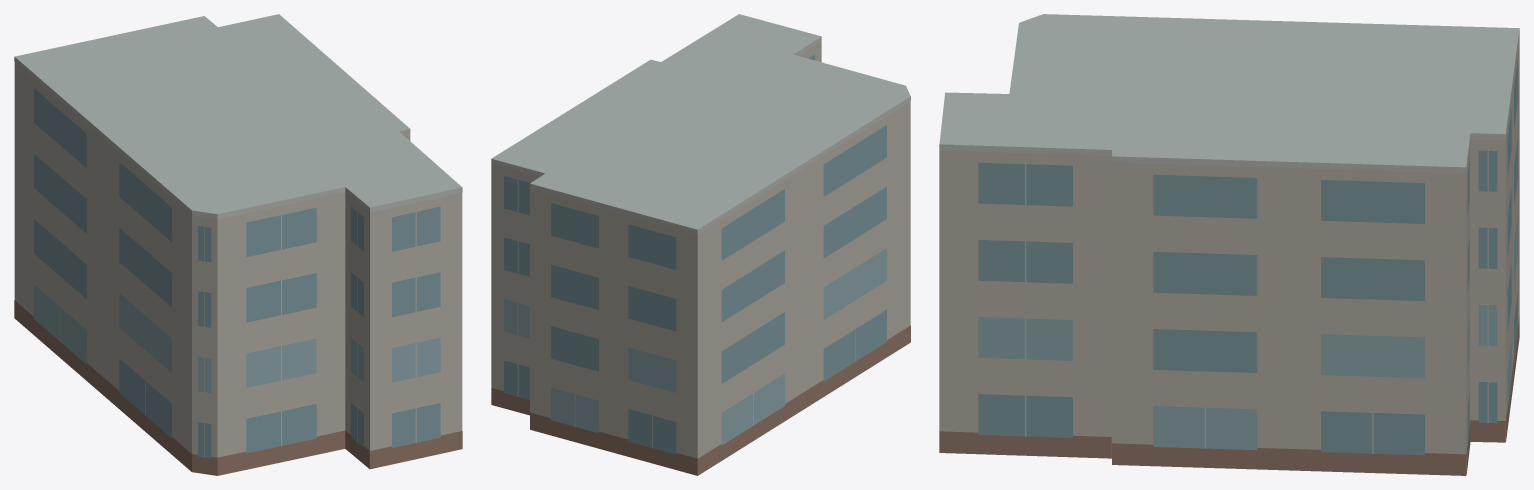
Rendered from survey-upis-32497921.glb.
3 renders of one model, left to right at view 1: azimuth 30°, elevation 25°; view 2: azimuth 150°, elevation 25°; view 3: azimuth 270°, elevation 25°, orthographic. The views are drawn at different scales.
Parts seen in each view (by area): view 1: survey-upis-32497921.tmp; view 2: survey-upis-32497921.tmp; view 3: survey-upis-32497921.tmp.
Boxes of the visible parts, x1=… form: survey-upis-32497921.tmp: x1=14, y1=14, x2=462, y2=475; survey-upis-32497921.tmp: x1=491, y1=14, x2=910, y2=475; survey-upis-32497921.tmp: x1=939, y1=14, x2=1519, y2=475.
Size of the model in its own units: 13.12 by 12.3 by 20.97.
